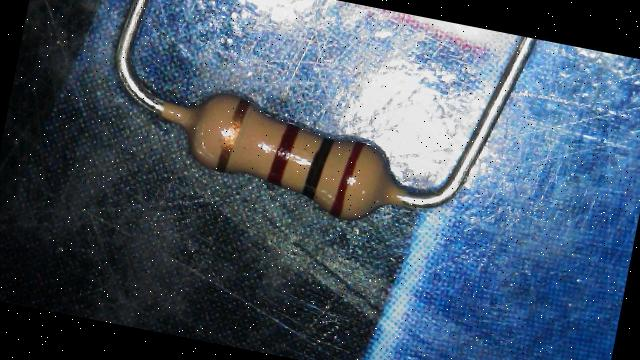black: (303, 136, 334, 200)
brown: (331, 138, 366, 219), (268, 122, 300, 186)
gold: (216, 96, 252, 174)
resistor: (150, 67, 432, 257)
